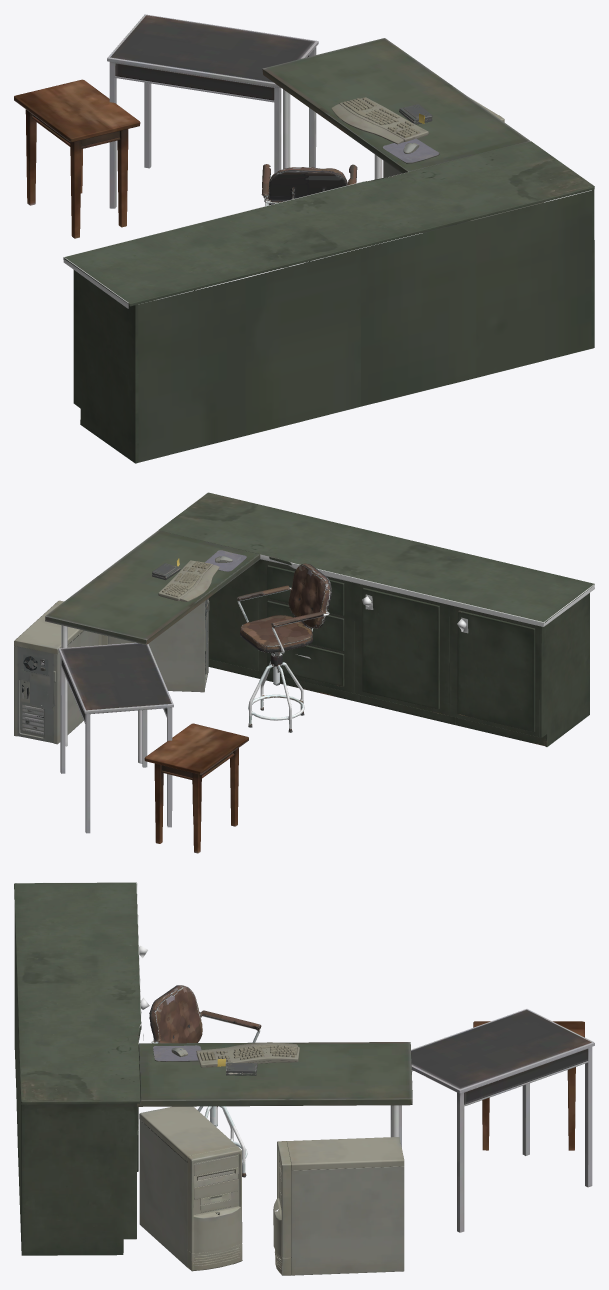
The model's file is matrixdesk-mobile-transformed.glb.
The picture shows the model from 3 angles, top to bottom: view 1: azimuth 30°, elevation 25°; view 2: azimuth 150°, elevation 25°; view 3: azimuth 270°, elevation 25°; orthographic projection. The views are drawn at different scales.
Visible parts, largest first — view 1: SM_NeosDesk_A01_N2, SM_NeosDesk_A01_N1, SM_DeskChair_A01_N1, SM_Prop_ComputerKeyboard_A, Cube6; view 2: SM_NeosDesk_A01_N2, SM_NeosDesk_A01_N1, SM_ComputerTower_A01_N4, SM_DeskChair_A01_N1, SM_Prop_ComputerKeyboard_A, Cube6; view 3: SM_NeosDesk_A01_N2, SM_ComputerTower_A01_N4, SM_NeosDesk_A01_N1, SM_DeskChair_A01_N1, SM_Prop_ComputerKeyboard_A, Cube6.
Part boxes in pixels (x1,y1,x2,y2): SM_NeosDesk_A01_N2: [63, 141, 594, 463]; SM_NeosDesk_A01_N1: [14, 14, 530, 238]; SM_DeskChair_A01_N1: [261, 164, 357, 268]; SM_Prop_ComputerKeyboard_A: [331, 97, 428, 144]; Cube6: [382, 138, 439, 163]; SM_NeosDesk_A01_N2: [159, 492, 594, 746]; SM_NeosDesk_A01_N1: [45, 530, 260, 853]; SM_ComputerTower_A01_N4: [14, 598, 209, 744]; SM_DeskChair_A01_N1: [237, 563, 331, 732]; SM_Prop_ComputerKeyboard_A: [158, 560, 219, 601]; Cube6: [205, 550, 246, 571]; SM_NeosDesk_A01_N2: [14, 882, 149, 1255]; SM_ComputerTower_A01_N4: [139, 1106, 404, 1275]; SM_NeosDesk_A01_N1: [137, 1009, 594, 1232]; SM_DeskChair_A01_N1: [149, 985, 261, 1177]; SM_Prop_ComputerKeyboard_A: [196, 1042, 299, 1067]; Cube6: [153, 1045, 201, 1061].
Bounding box in the file's own units: 3.35 × 1.08 × 3.41.
10 materials, 10 textured.
